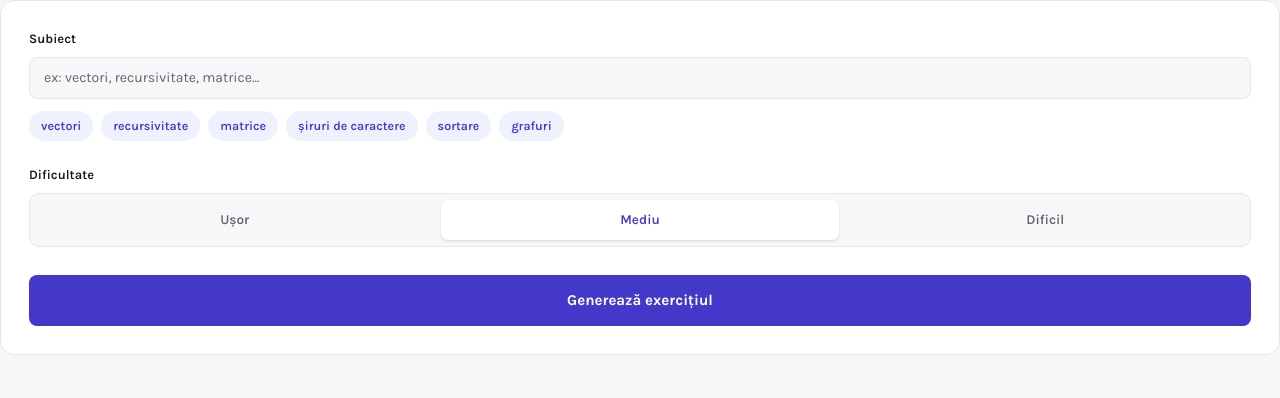
Test: ExerciseForm › blocks submission and shows an error when the topic is empty
Click the button "Generează exercițiul": [640, 301] box 29,275 -> 1251,326
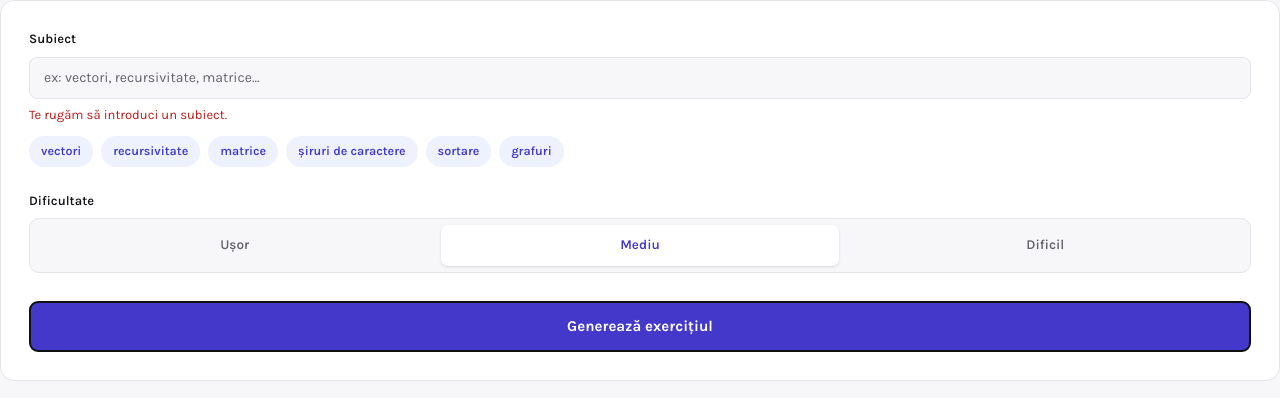
Now the text "Te rugăm să introduci un subiect." is shown, box 29,106 -> 227,122
